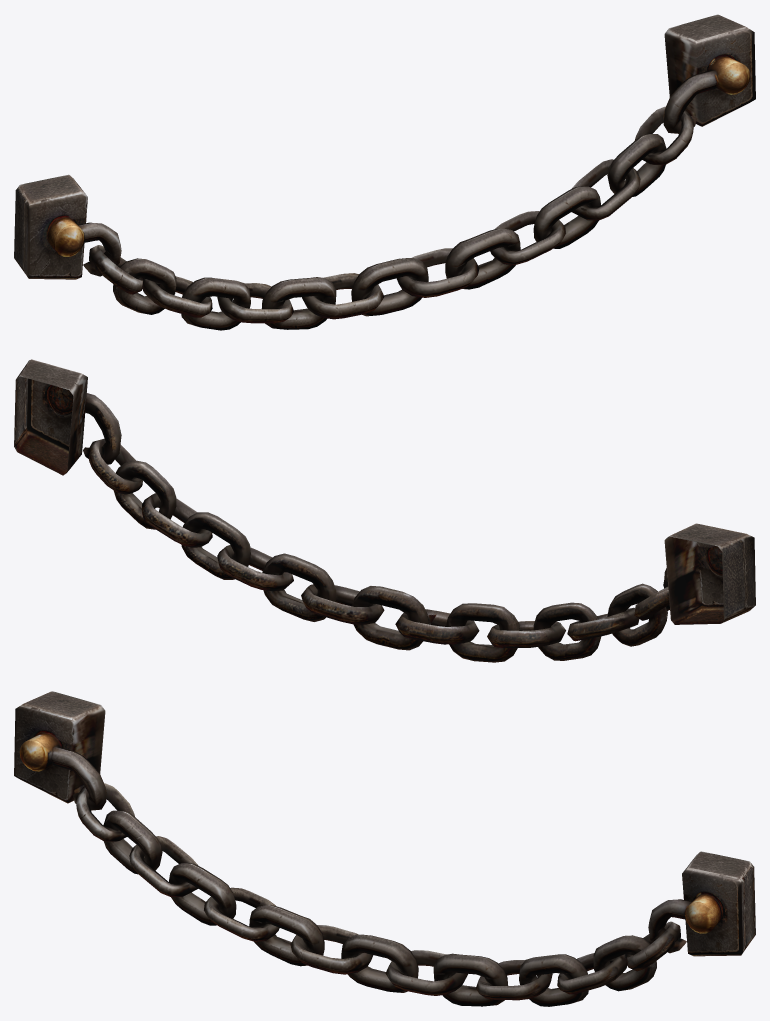
Rendered from metal_chain_3d_model.fbx.
3 renders of one model, top to bottom at view 1: azimuth 30°, elevation 25°; view 2: azimuth 150°, elevation 25°; view 3: azimuth 330°, elevation 25°, orthographic.
Parts seen in each view (by area): view 1: tripo_2e1eb0be_63af_400a_a8f0_dd74106efbf9; view 2: tripo_2e1eb0be_63af_400a_a8f0_dd74106efbf9; view 3: tripo_2e1eb0be_63af_400a_a8f0_dd74106efbf9.
Part boxes in pixels (x1,y1,x2,y2): tripo_2e1eb0be_63af_400a_a8f0_dd74106efbf9: [14, 14, 755, 330]; tripo_2e1eb0be_63af_400a_a8f0_dd74106efbf9: [14, 359, 755, 662]; tripo_2e1eb0be_63af_400a_a8f0_dd74106efbf9: [14, 691, 755, 1006].
Bounding box in the file's own units: 0.9995 × 0.2612 × 0.0972.
